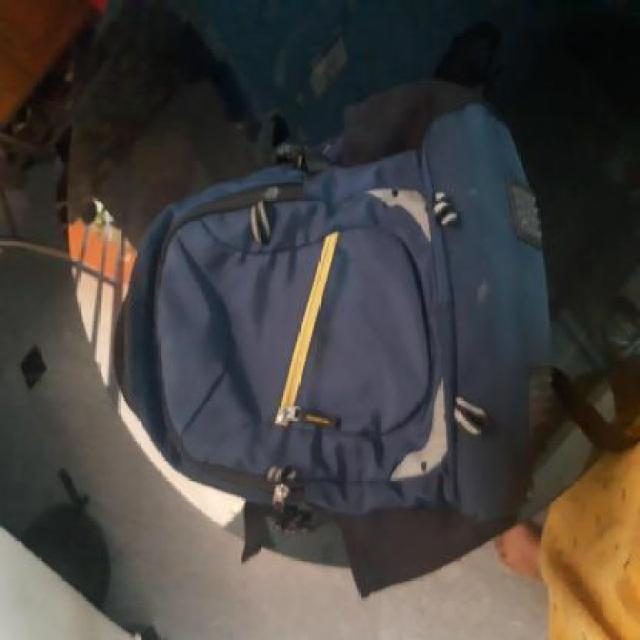backpack: (106, 76, 565, 566)
